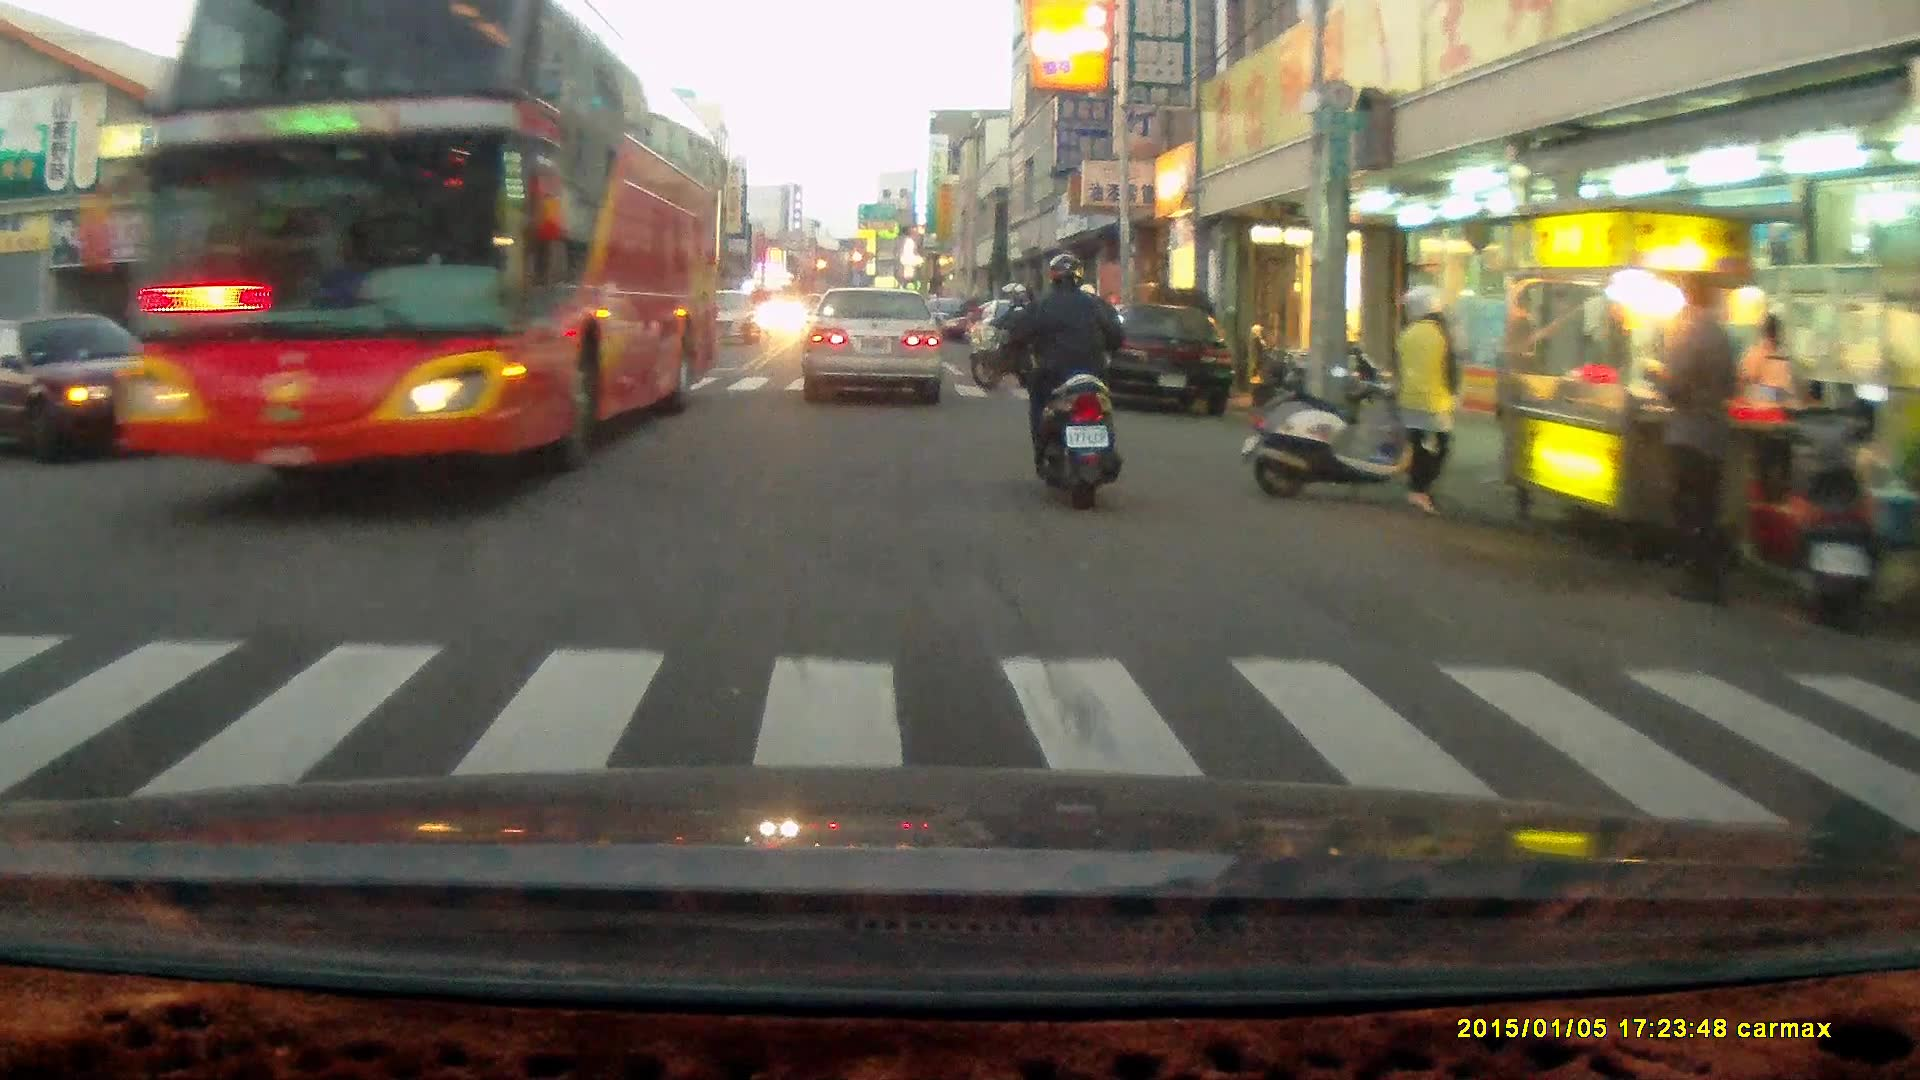pedestrian: (1647, 279, 1744, 607), (1388, 283, 1464, 521), (1743, 312, 1802, 495)
rider: (1002, 253, 1121, 511), (971, 280, 1041, 391)
vehicle: (117, 23, 718, 479), (1, 313, 171, 460), (1073, 300, 1244, 419), (801, 289, 945, 405)
